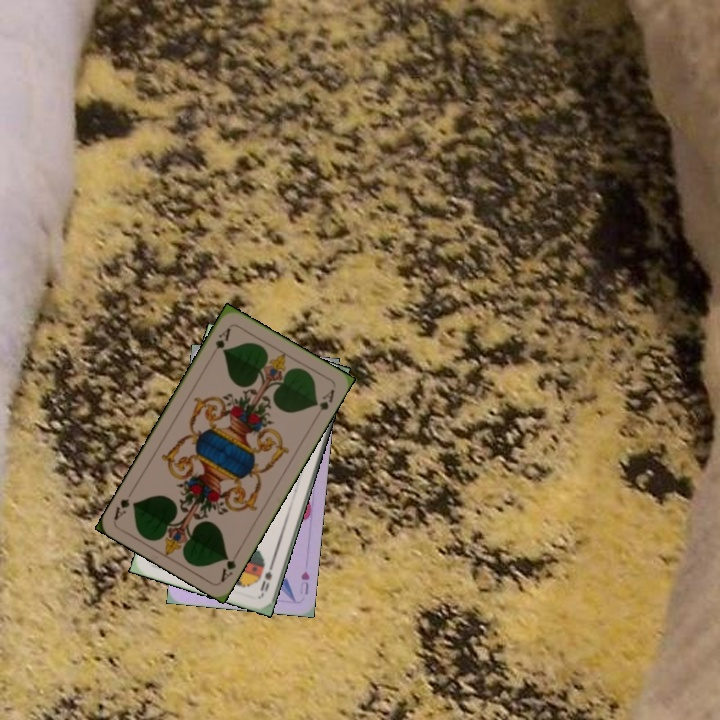GA: (217, 546, 242, 584), (207, 324, 233, 359)
HU: (296, 567, 312, 597)
SO: (256, 557, 277, 597)
